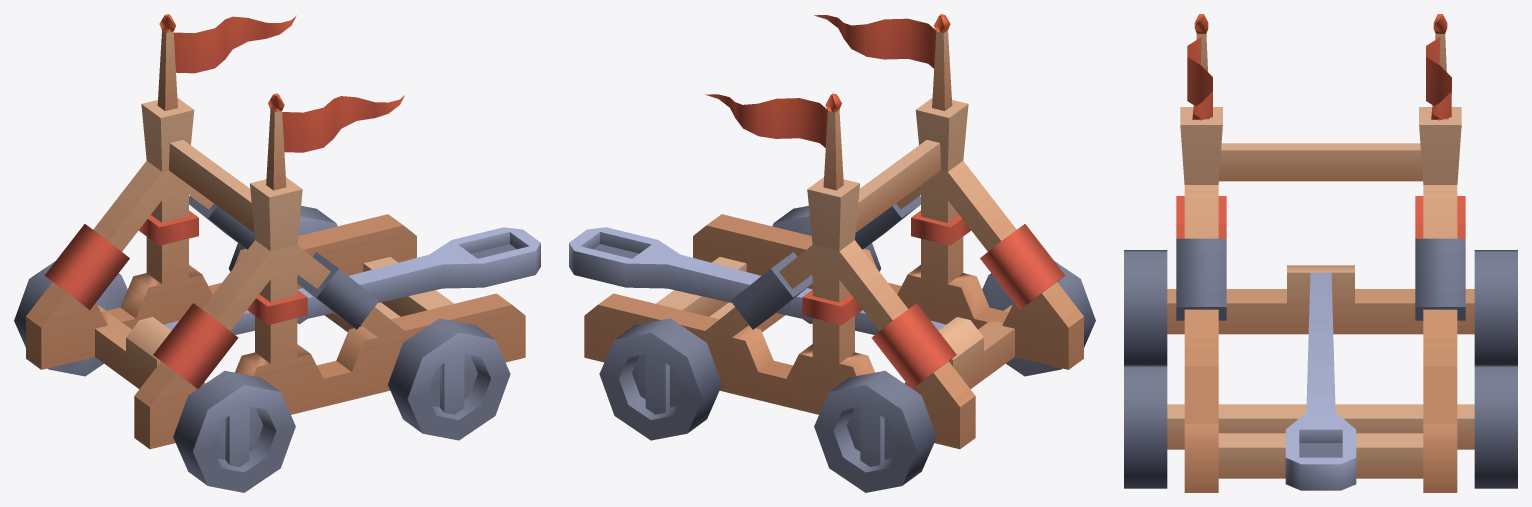
Rendered from siege-catapult.fbx.
3 views of the same model, side by side, from view 1: azimuth 30°, elevation 25°; view 2: azimuth 150°, elevation 25°; view 3: azimuth 270°, elevation 25° (orthographic). The views are drawn at different scales.
Parts seen in each view (by area): view 1: siege-catapult, wheel.007, wheel.008, catapult, wheel.010, wheel.009; view 2: siege-catapult, wheel.009, wheel.010, catapult, wheel.008, wheel.007; view 3: siege-catapult, catapult, wheel.007, wheel.009, wheel.008, wheel.010.
Boxes of the visible parts, x1,y1,x2,y2 form: siege-catapult: [26, 14, 525, 449]; wheel.007: [388, 318, 510, 440]; wheel.008: [173, 370, 295, 492]; catapult: [164, 227, 540, 334]; wheel.010: [14, 261, 127, 376]; wheel.009: [228, 206, 337, 323]; siege-catapult: [584, 14, 1083, 449]; wheel.009: [599, 318, 721, 440]; wheel.010: [814, 370, 936, 492]; catapult: [569, 227, 945, 334]; wheel.008: [982, 261, 1095, 376]; wheel.007: [772, 206, 881, 323]; siege-catapult: [1167, 14, 1474, 492]; catapult: [1285, 272, 1356, 490]; wheel.007: [1124, 365, 1167, 488]; wheel.009: [1474, 365, 1517, 488]; wheel.008: [1124, 250, 1167, 365]; wheel.010: [1474, 250, 1517, 365].
Size of the model in its own units: 1.73 by 1.21 by 1.33.
